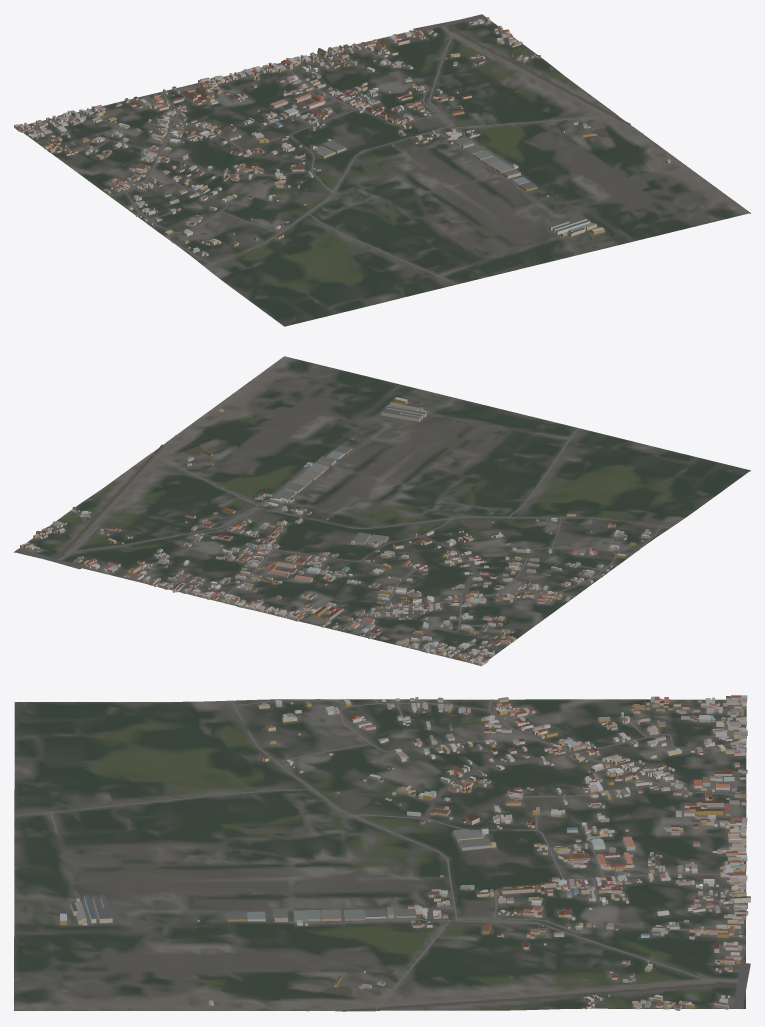
3 renders of one model, top to bottom at view 1: azimuth 30°, elevation 25°; view 2: azimuth 150°, elevation 25°; view 3: azimuth 270°, elevation 25°, orthographic. The views are drawn at different scales.
Visible parts, largest first — view 1: ground, buildings, roads, water; view 2: ground, buildings, roads; view 3: ground, buildings, roads, water.
Part boxes in pixels (bbox=[...]): ground: bbox=[23, 14, 750, 326]; buildings: bbox=[14, 17, 670, 256]; roads: bbox=[31, 15, 643, 284]; water: bbox=[447, 25, 630, 136]; ground: bbox=[14, 356, 750, 663]; buildings: bbox=[20, 397, 650, 666]; roads: bbox=[15, 428, 670, 661]; ground: bbox=[14, 699, 746, 1011]; buildings: bbox=[60, 695, 750, 1010]; roads: bbox=[14, 699, 750, 1011]; water: bbox=[323, 967, 736, 1011].
Bounding box in the file's own units: 1412 × 19.8 × 1410.
